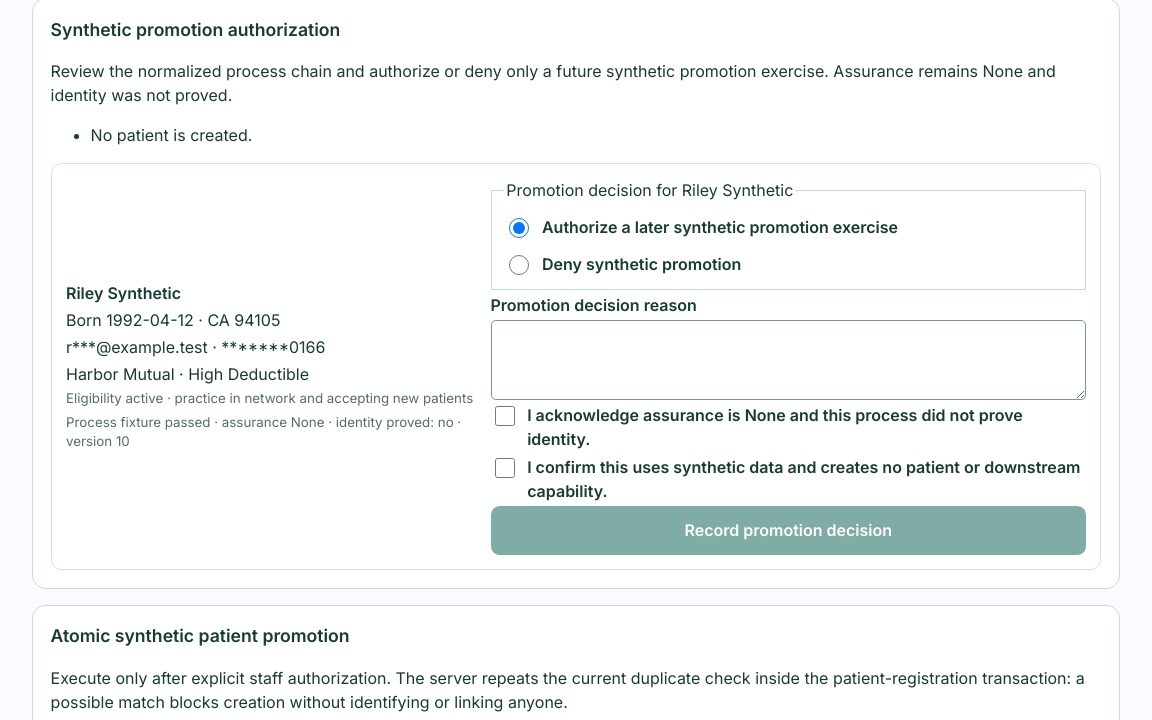
Test: AdminTelehealthQueue › records only a synthetic promotion authorization with both explicit acknowledgments
(page scrolled)
Check: the text "Riley Synthetic" is shown, box [66,283,181,303]
Check: the text "assurance None · identity proved: no" is shown, box [66,412,475,452]
Type "Complete synthetic chain reviewed by authorized staff." into the text box labelled "Promotion decision reason".
click(788, 360); type("Complete synthetic chain reviewed by authorized staff.")  # box [490,320,1086,400]
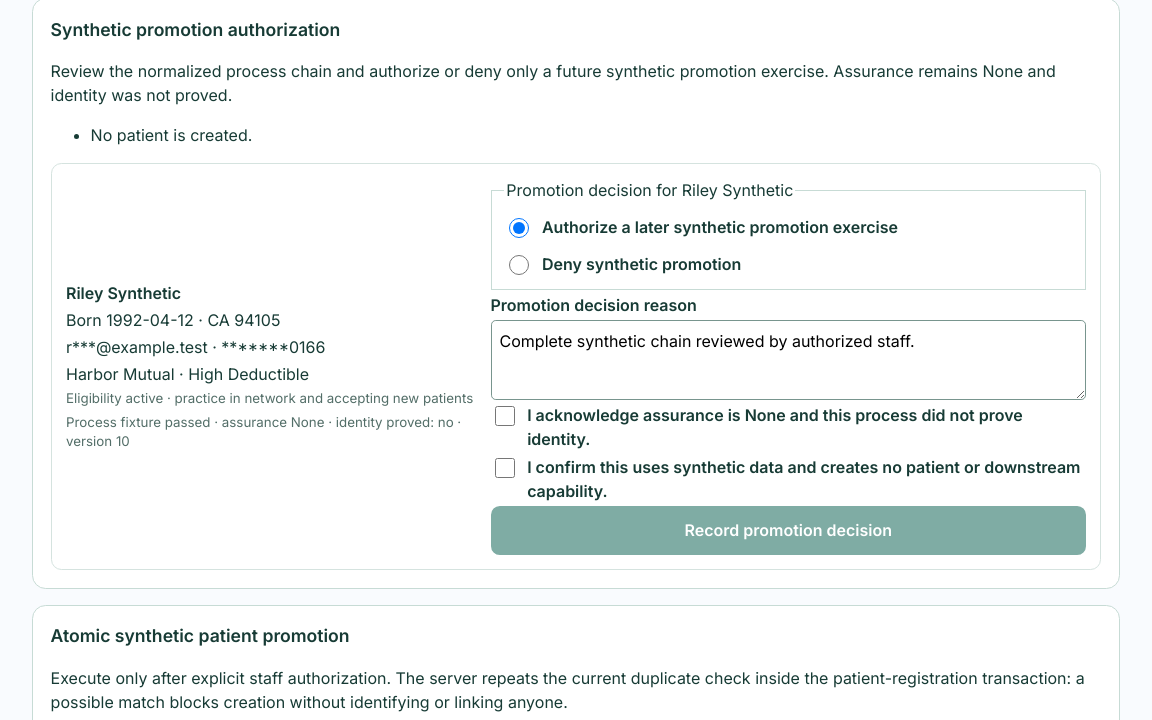
Click the checkbox labelled "I acknowledge assurance is None".
click(504, 416)  # box [494,406,514,426]
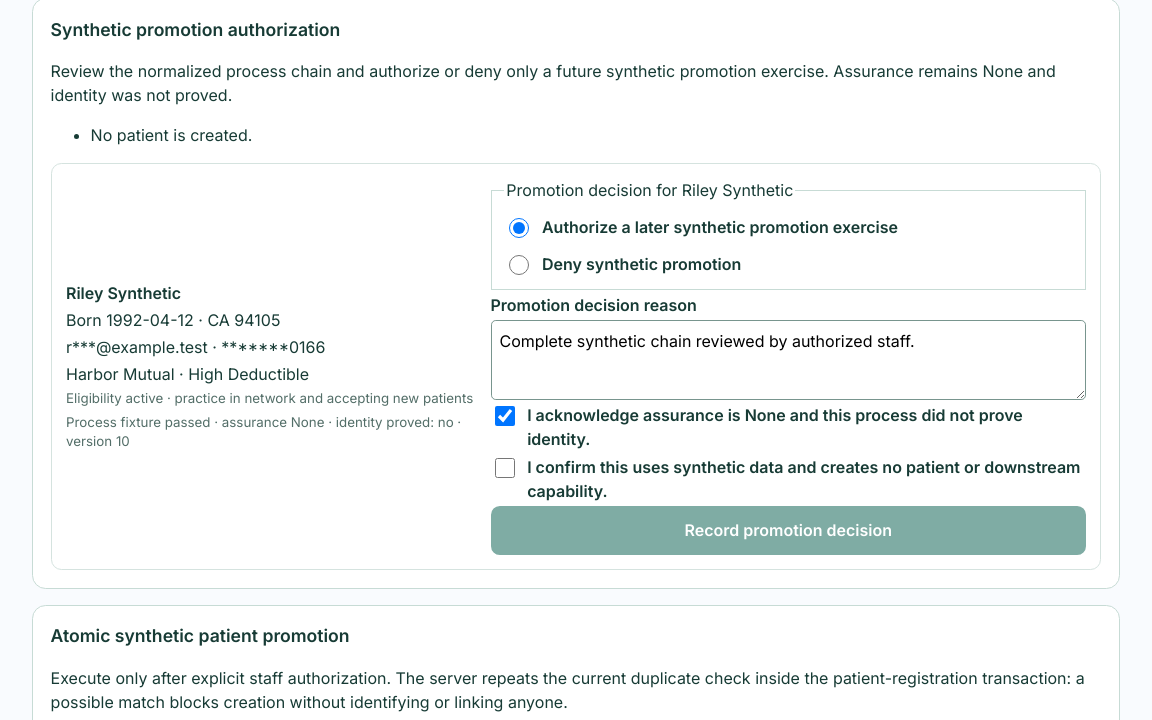
Click the checkbox labelled "I confirm this uses synthetic data and creates no patient".
click(504, 468)  # box [494,458,514,478]
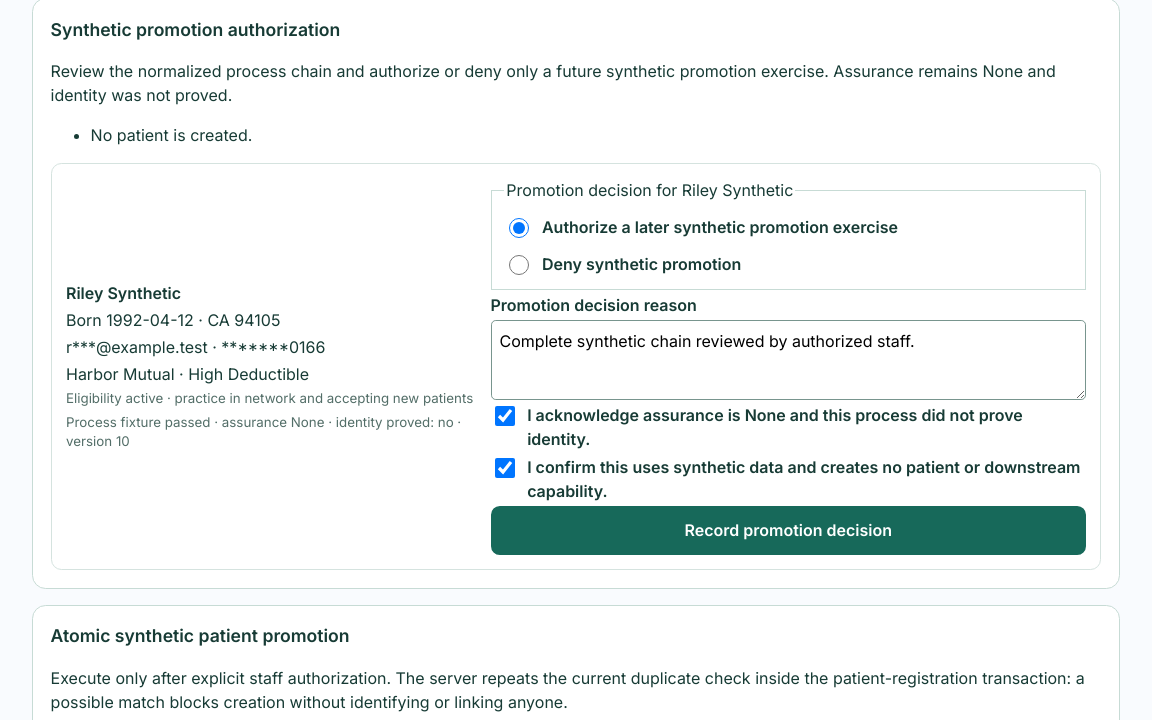
Click the button "Record promotion decision".
click(788, 530)  # box [490,506,1086,555]
(page scrolled)
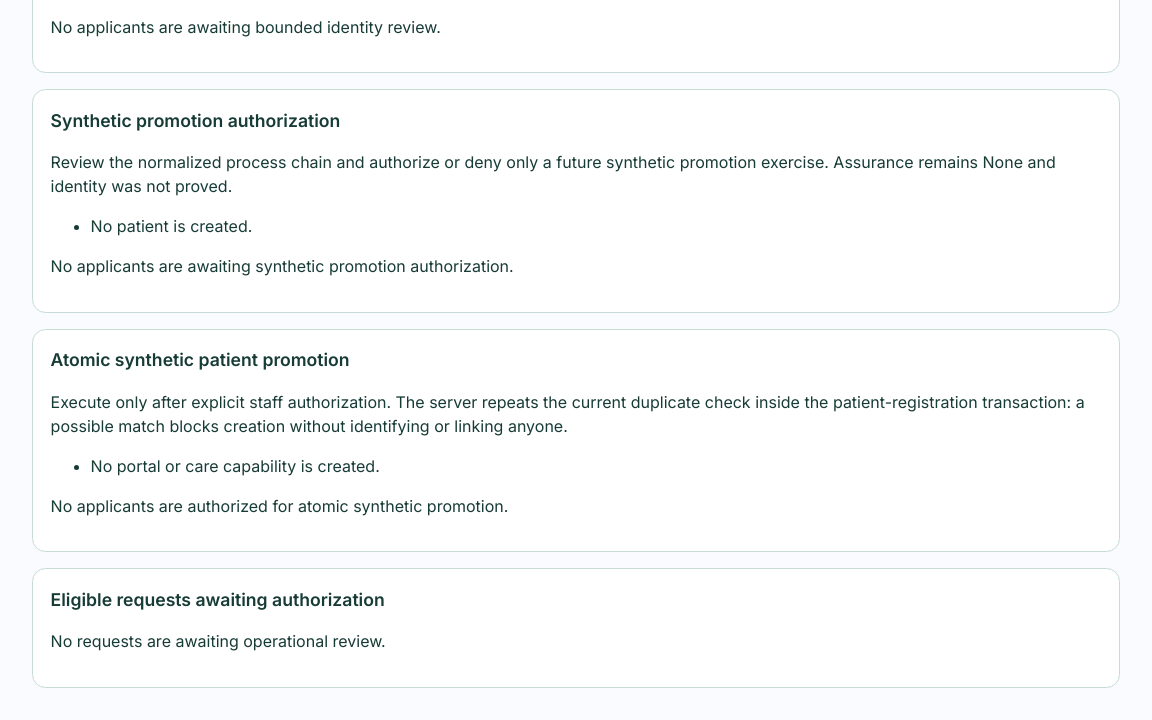
Check: the text "No applicants are awaiting synthetic promotion authorization." is shown, box [51,256,514,276]
